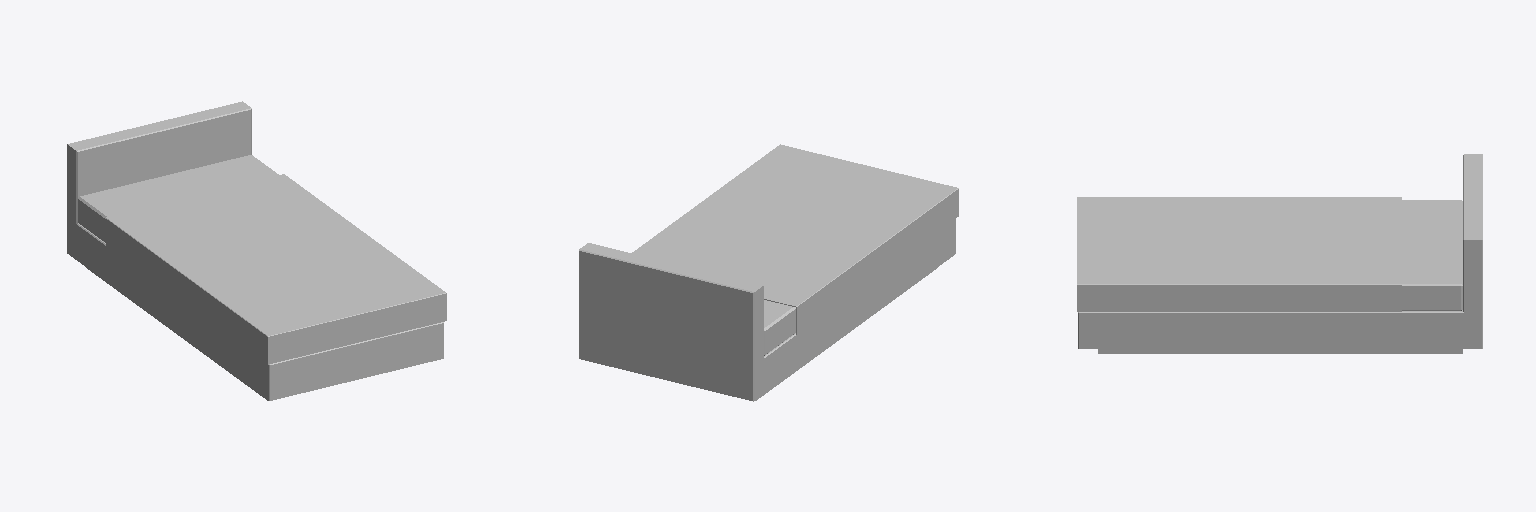
File: bed-single.obj
3 renders of one model, left to right at view 1: azimuth 30°, elevation 25°; view 2: azimuth 150°, elevation 25°; view 3: azimuth 270°, elevation 25°, orthographic.
Parts seen in each view (by area): view 1: sheet_Cube.002, bed_Cube, mattress_Cube.001; view 2: sheet_Cube.002, bed_Cube, mattress_Cube.001; view 3: sheet_Cube.002, bed_Cube, mattress_Cube.001.
Part boxes in pixels (bbox=[...]): sheet_Cube.002: bbox=[106, 174, 446, 364]; bed_Cube: bbox=[67, 101, 443, 400]; mattress_Cube.001: bbox=[78, 155, 278, 242]; sheet_Cube.002: bbox=[632, 144, 958, 334]; bed_Cube: bbox=[579, 219, 955, 401]; mattress_Cube.001: bbox=[764, 300, 795, 355]; sheet_Cube.002: bbox=[1077, 197, 1401, 311]; bed_Cube: bbox=[1078, 154, 1482, 353]; mattress_Cube.001: bbox=[1402, 200, 1462, 310].
Size of the model in its own units: 1.02 by 0.645 by 2.01.